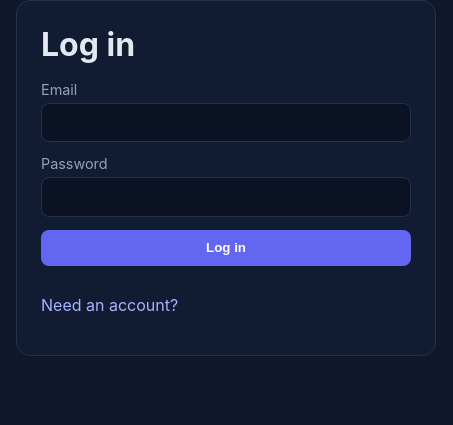
Test: AuthForm › shows the server error on failed login
Step 1. Type "demo@example.com" into the field labelled "Email" → (226, 122), box [41, 103, 411, 142]
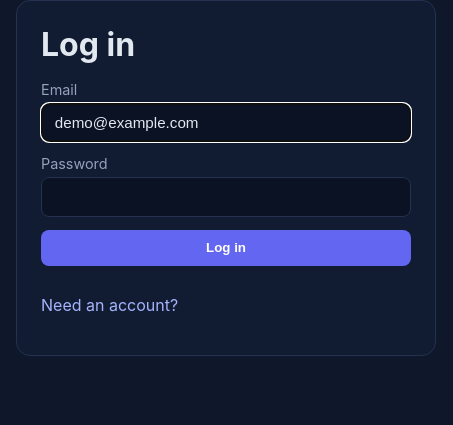
Step 2. Type "nope" into the password field labelled "Password" → (226, 197), box [41, 177, 411, 217]
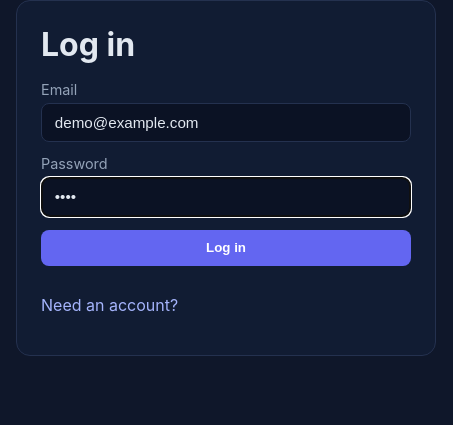
Step 3. Click the button "Log in" → (226, 248), box [41, 230, 411, 266]
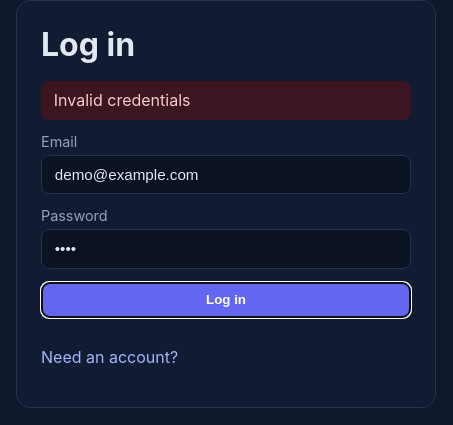
Result: the message reads "Invalid credentials" at [54, 90, 190, 110]
